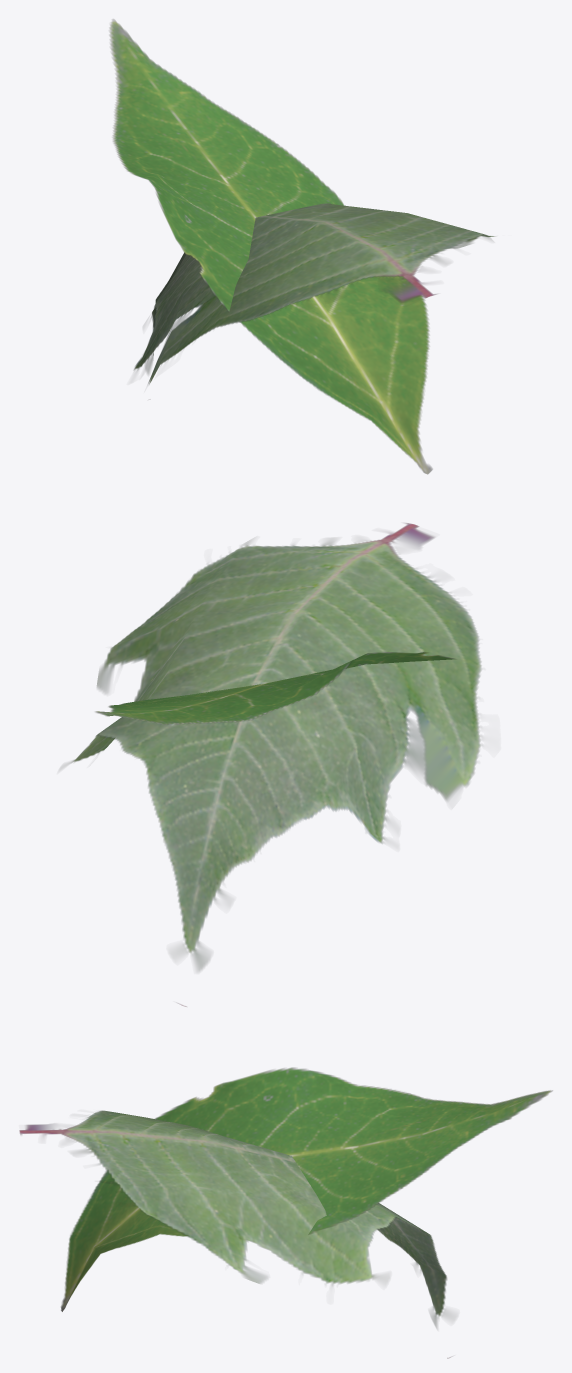
File: leafs.glb
The picture shows the model from 3 angles, top to bottom: view 1: azimuth 30°, elevation 25°; view 2: azimuth 150°, elevation 25°; view 3: azimuth 270°, elevation 25°; orthographic projection. The views are drawn at different scales.
Parts seen in each view (by area): view 1: leaf_11, plane_05; view 2: plane_05, leaf_11; view 3: leaf_11, plane_05.
Part boxes in pixels (x1,y1,x2,y2): leaf_11: (109, 19, 432, 474); plane_05: (134, 203, 495, 384); plane_05: (62, 523, 481, 1006); leaf_11: (95, 652, 455, 724); leaf_11: (61, 1067, 552, 1311); plane_05: (19, 1110, 451, 1358).
Bounding box in the file's own units: 1.34 × 1.13 × 1.97.
Materials: 2 (2 with a texture image).
